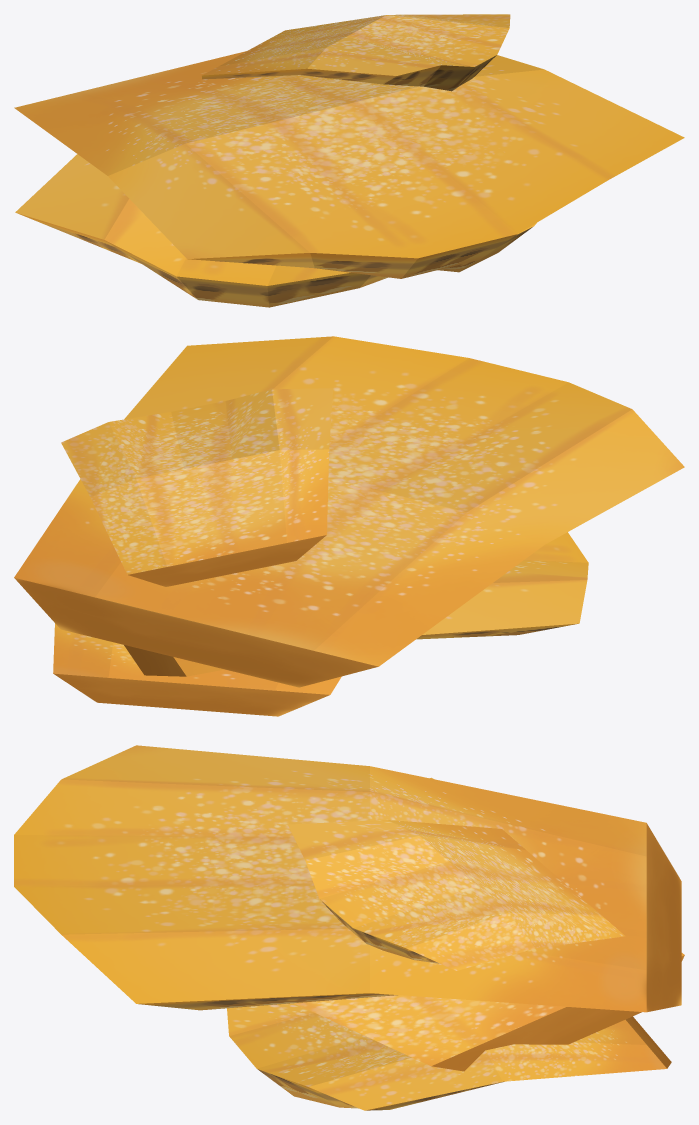
Rendered from YellowSlabCoral.fbx.
The picture shows the model from 3 angles, top to bottom: view 1: azimuth 30°, elevation 25°; view 2: azimuth 150°, elevation 25°; view 3: azimuth 270°, elevation 25°; orthographic projection. The views are drawn at different scales.
Parts seen in each view (by area): view 1: Coral piece 1; view 2: Coral piece 1; view 3: Coral piece 1.
Part boxes in pixels (x1,y1,x2,y2): Coral piece 1: [14, 14, 684, 307]; Coral piece 1: [14, 336, 684, 716]; Coral piece 1: [14, 745, 684, 1110].
Bounding box in the file's own units: 521 × 184 × 515.
Materials: 1 (1 with a texture image).
